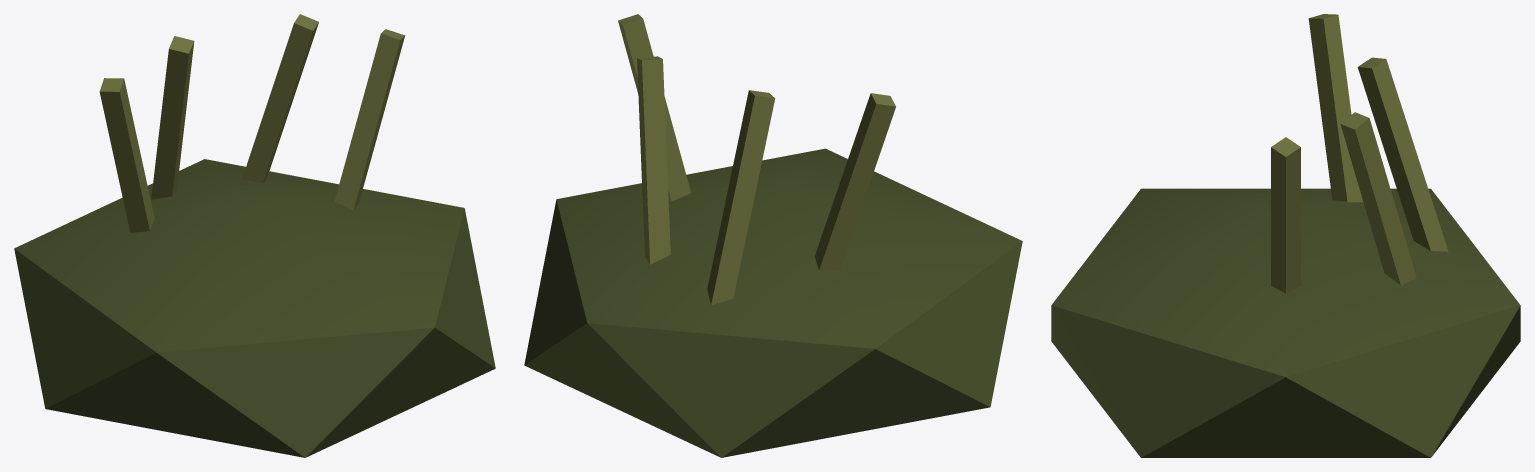
File: bg_swamp_hummock_1_lod1.glb
3 renders of one model, left to right at view 1: azimuth 30°, elevation 25°; view 2: azimuth 150°, elevation 25°; view 3: azimuth 270°, elevation 25°, orthographic. The views are drawn at different scales.
Parts seen in each view (by area): view 1: sway, body; view 2: sway, body; view 3: sway, body.
Boxes of the visible parts, box(x1,y1,x2,y2) form: sway: box(14, 14, 495, 457); body: box(46, 328, 495, 457); sway: box(524, 14, 1022, 457); body: box(524, 323, 989, 457); sway: box(1051, 14, 1520, 457); body: box(1051, 305, 1520, 457).
Bounding box in the file's own units: 0.9839 × 0.7952 × 0.9357.
